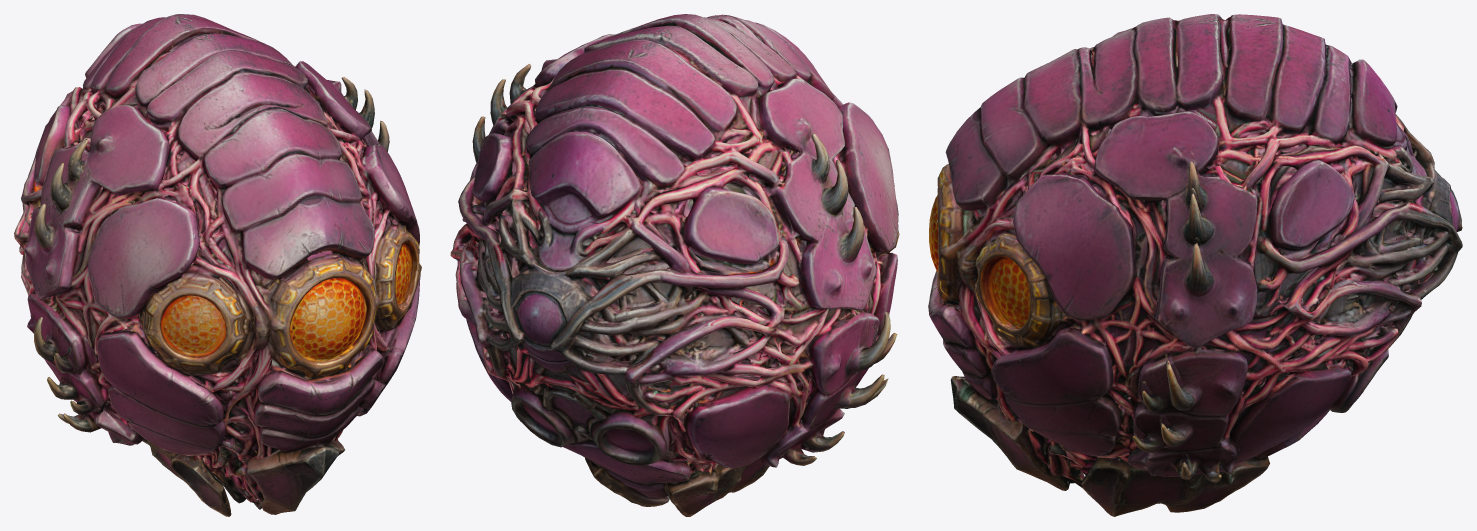
The picture shows the model from 3 angles, left to right: view 1: azimuth 30°, elevation 25°; view 2: azimuth 150°, elevation 25°; view 3: azimuth 270°, elevation 25°; orthographic projection. The views are drawn at different scales.
Size of the model in its own units: 0.8949 by 1 by 1.
1 material, 1 textured.
